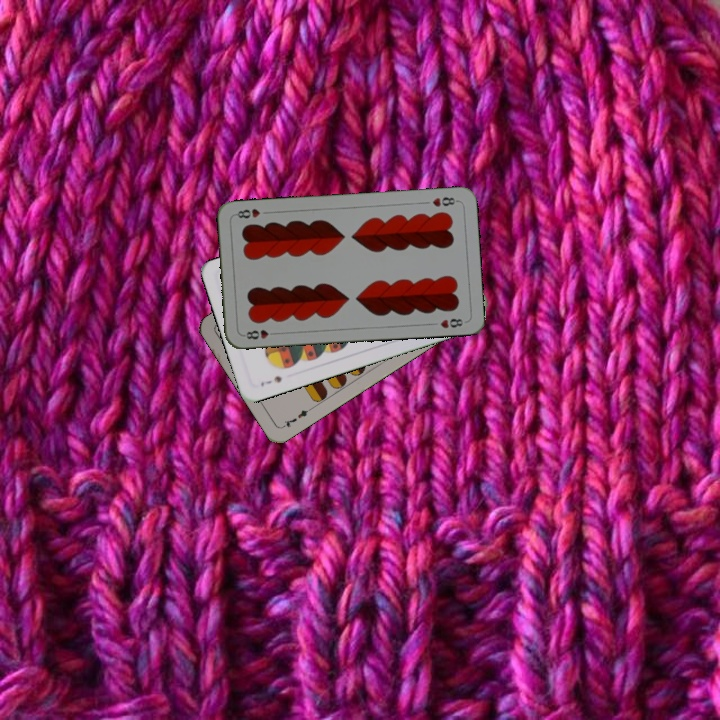E7: (279, 403, 315, 431)
H8: (239, 326, 280, 342), (428, 193, 460, 209)
S7: (257, 372, 285, 389)
